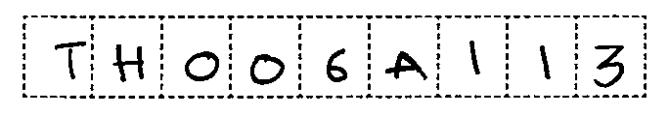0: (177, 46, 225, 86), (246, 49, 288, 90)
1: (454, 36, 492, 80), (525, 42, 563, 84)
3: (585, 40, 630, 91)
6: (320, 46, 358, 86)
A: (380, 46, 430, 88)
H: (109, 39, 152, 85)
T: (51, 36, 89, 82)
